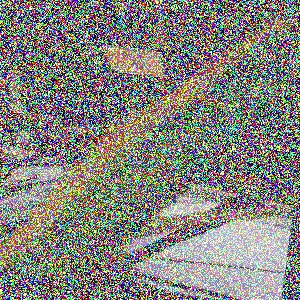Leaf_Blast: (43, 136, 178, 284)
